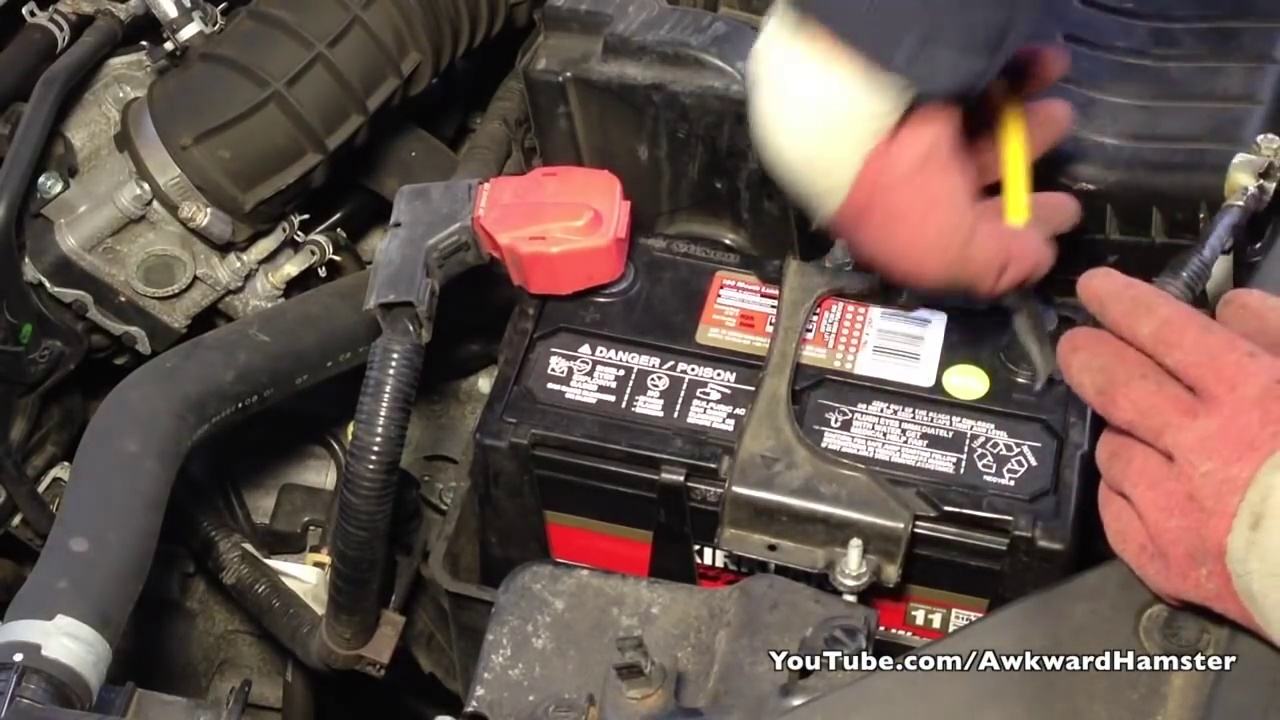battery: (469, 202, 1091, 547)
pos_connected: (440, 139, 659, 298)
